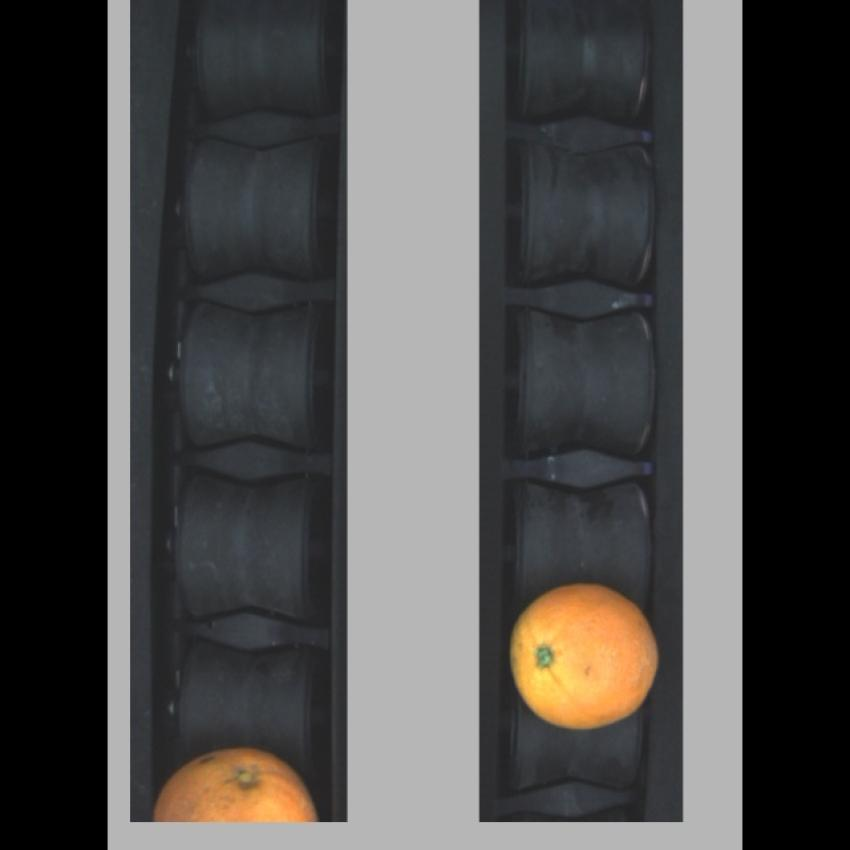Mal estado: (505, 580, 665, 729), (150, 740, 324, 819)
